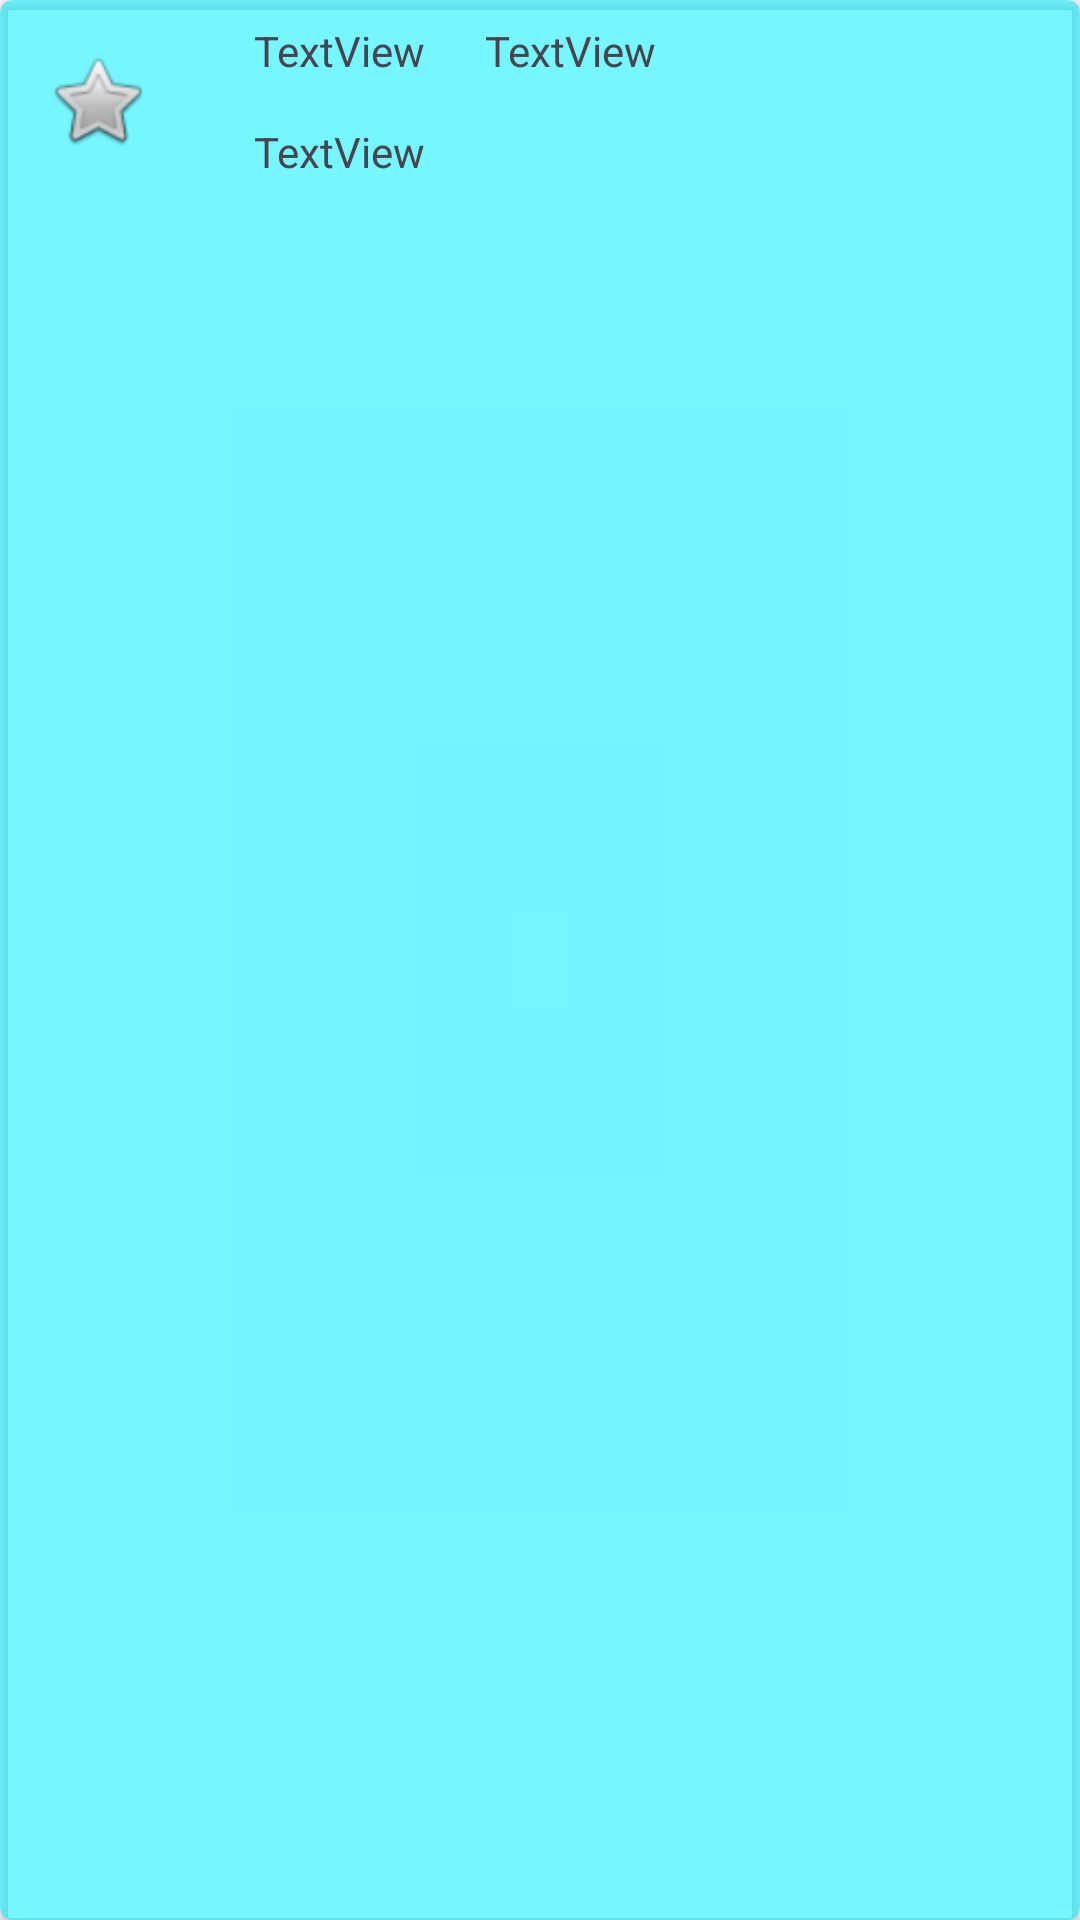

Icon click points for this 1080*1920 phone screenshot, format (x,y):
star: (98,101)
